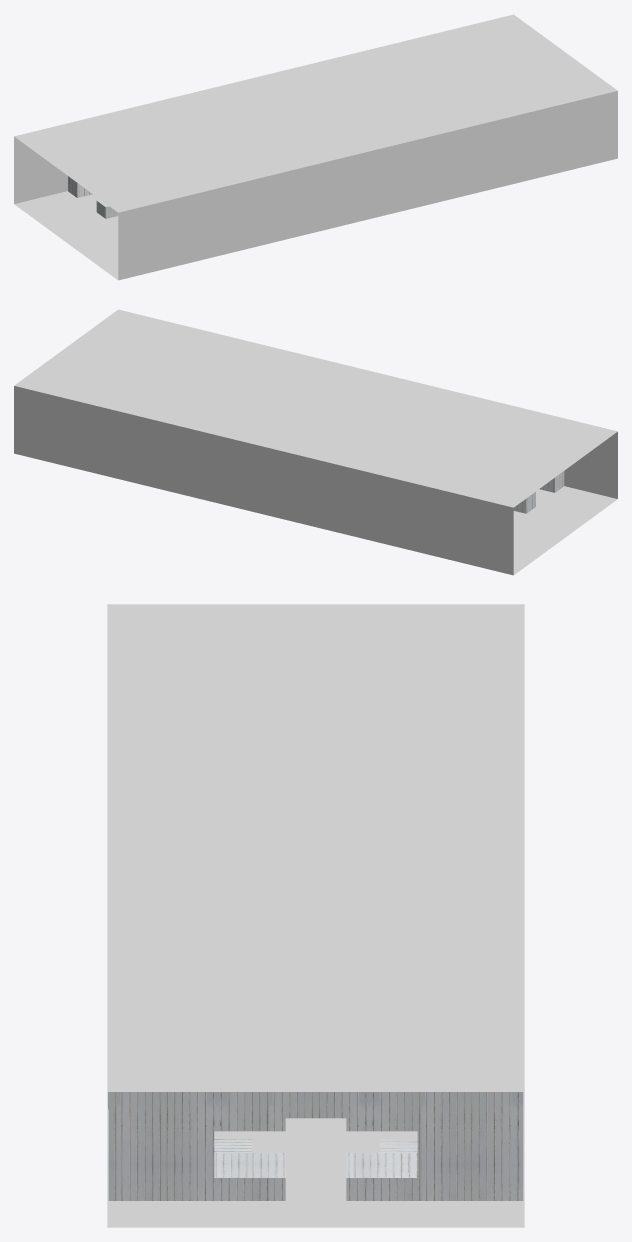
File: MAP2.fbx
The picture shows the model from 3 angles, top to bottom: view 1: azimuth 30°, elevation 25°; view 2: azimuth 150°, elevation 25°; view 3: azimuth 270°, elevation 25°; orthographic projection. The views are drawn at different scales.
Parts seen in each view (by area): view 1: Box001; view 2: Box001; view 3: Box001, Box034.
Boxes of the visible parts, bbox=[...] form: Box001: bbox=[14, 14, 617, 280]; Box001: bbox=[14, 309, 617, 575]; Box001: bbox=[107, 604, 524, 1227]; Box034: bbox=[108, 1092, 523, 1200].
Size of the model in its own units: 775 by 100 by 280.
Materials: 1 (1 with a texture image).
